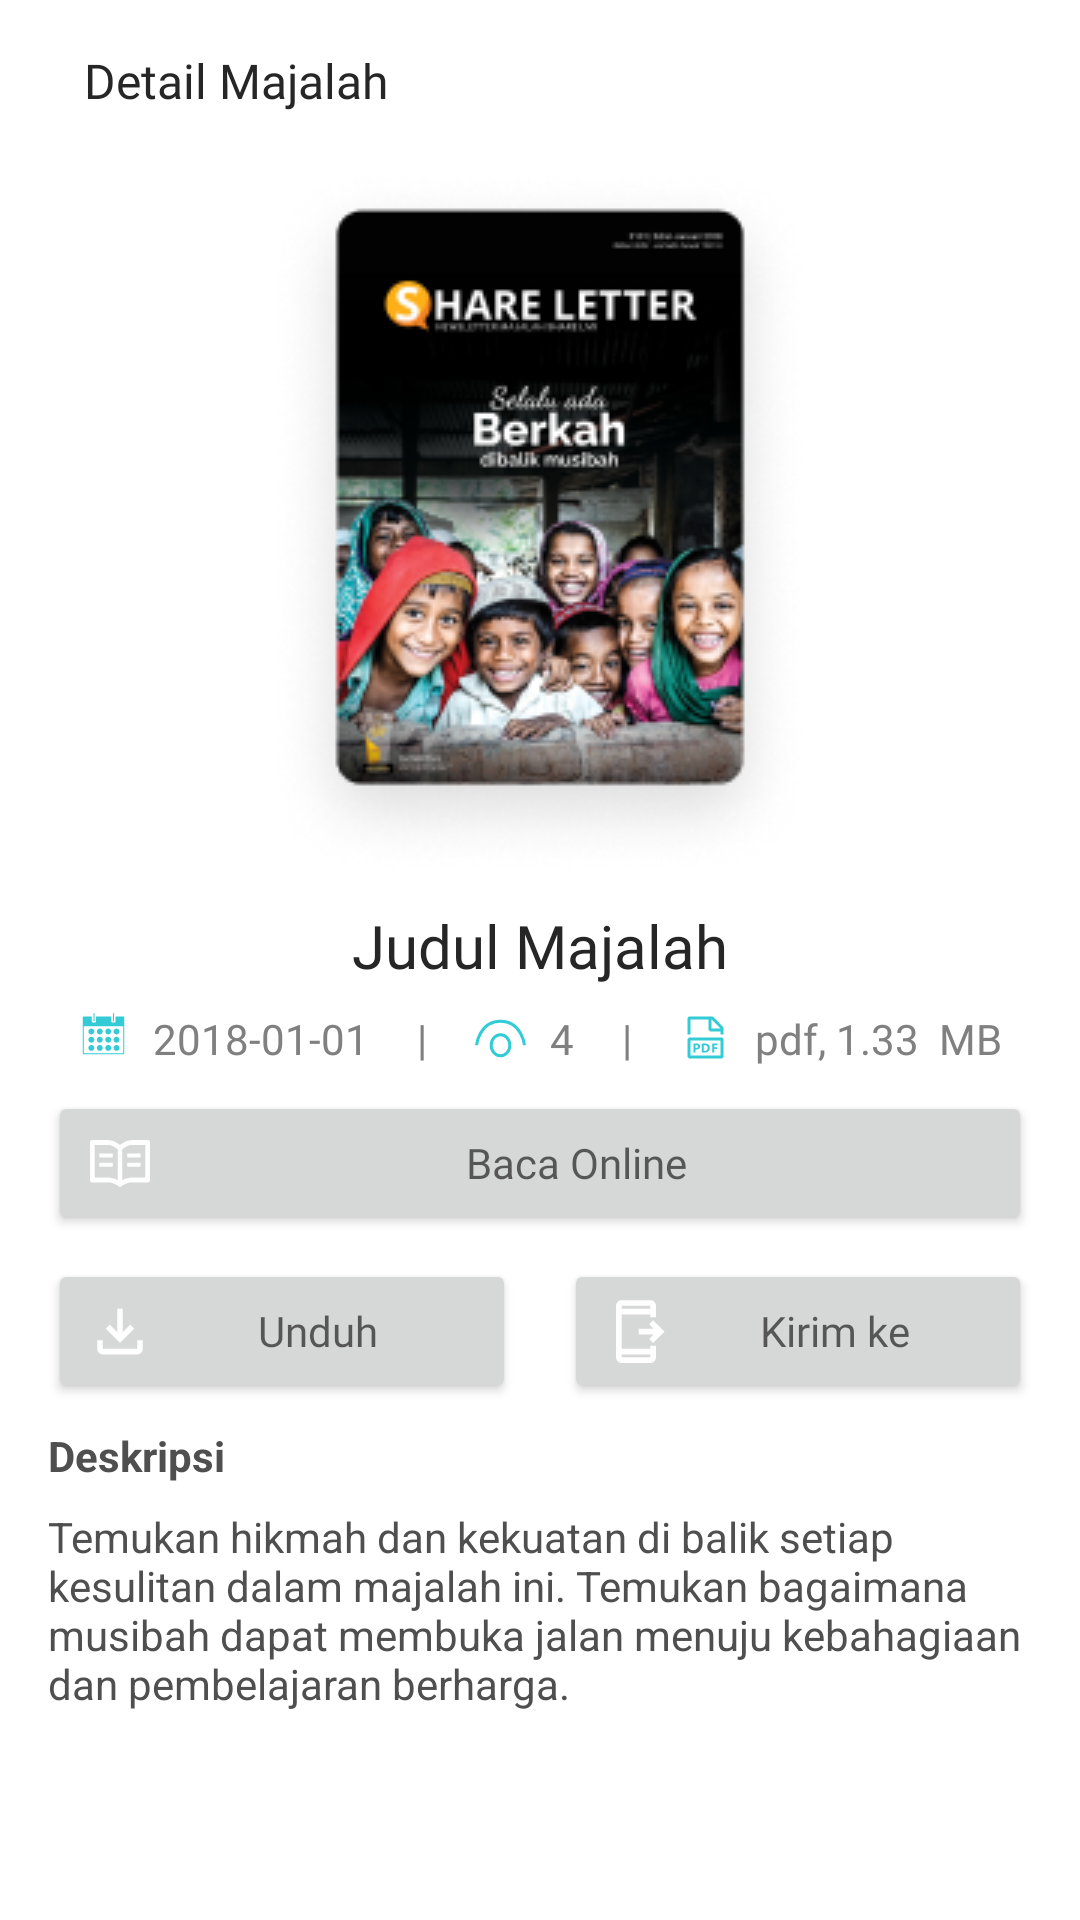

Locate icon controls on the screen. Image size 1080 x 1920, boxes as (x1, y1, x2, y2).
tanggal: (82, 1013, 125, 1055)
views: (475, 1019, 526, 1058)
